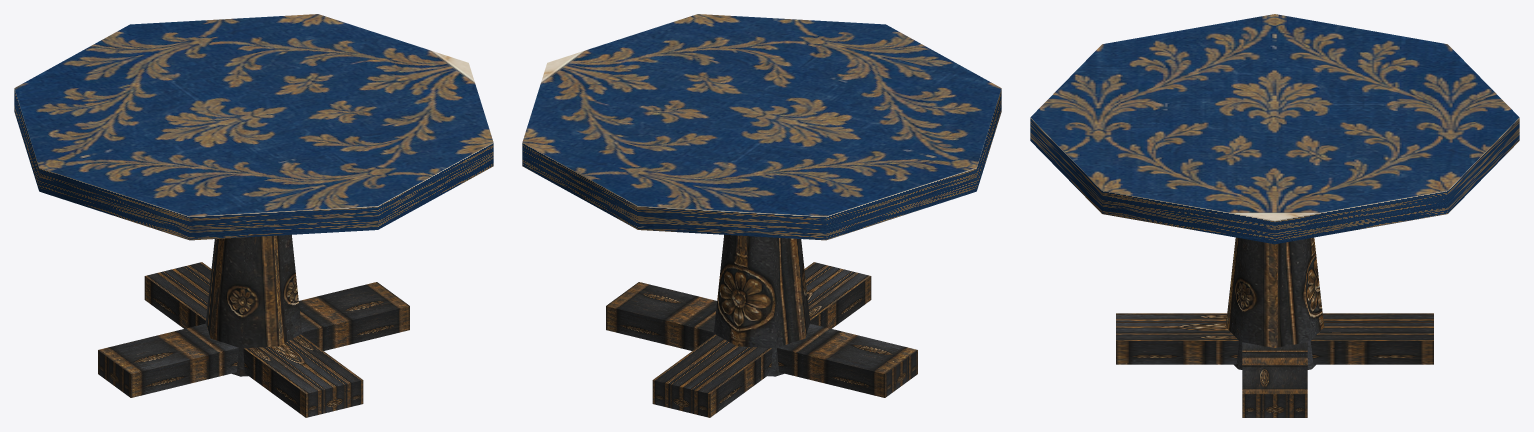
File: round-table.gltf
3 renders of one model, left to right at view 1: azimuth 30°, elevation 25°; view 2: azimuth 150°, elevation 25°; view 3: azimuth 270°, elevation 25°, orthographic.
Parts seen in each view (by area): view 1: kit:0:furniture:marble:, kit:0:furniture:mahogany:; view 2: kit:0:furniture:marble:, kit:0:furniture:mahogany:; view 3: kit:0:furniture:marble:, kit:0:furniture:mahogany:.
Boxes of the visible parts, x1,y1,x2,y2 form: kit:0:furniture:marble:: [14, 14, 493, 240]; kit:0:furniture:mahogany:: [98, 234, 409, 417]; kit:0:furniture:marble:: [522, 14, 1001, 240]; kit:0:furniture:mahogany:: [606, 234, 917, 417]; kit:0:furniture:marble:: [1030, 14, 1519, 244]; kit:0:furniture:mahogany:: [1116, 237, 1433, 417].
Bounding box in the file's own units: 1.5 × 0.8 × 1.5.
Materials: 2 (2 with a texture image).
